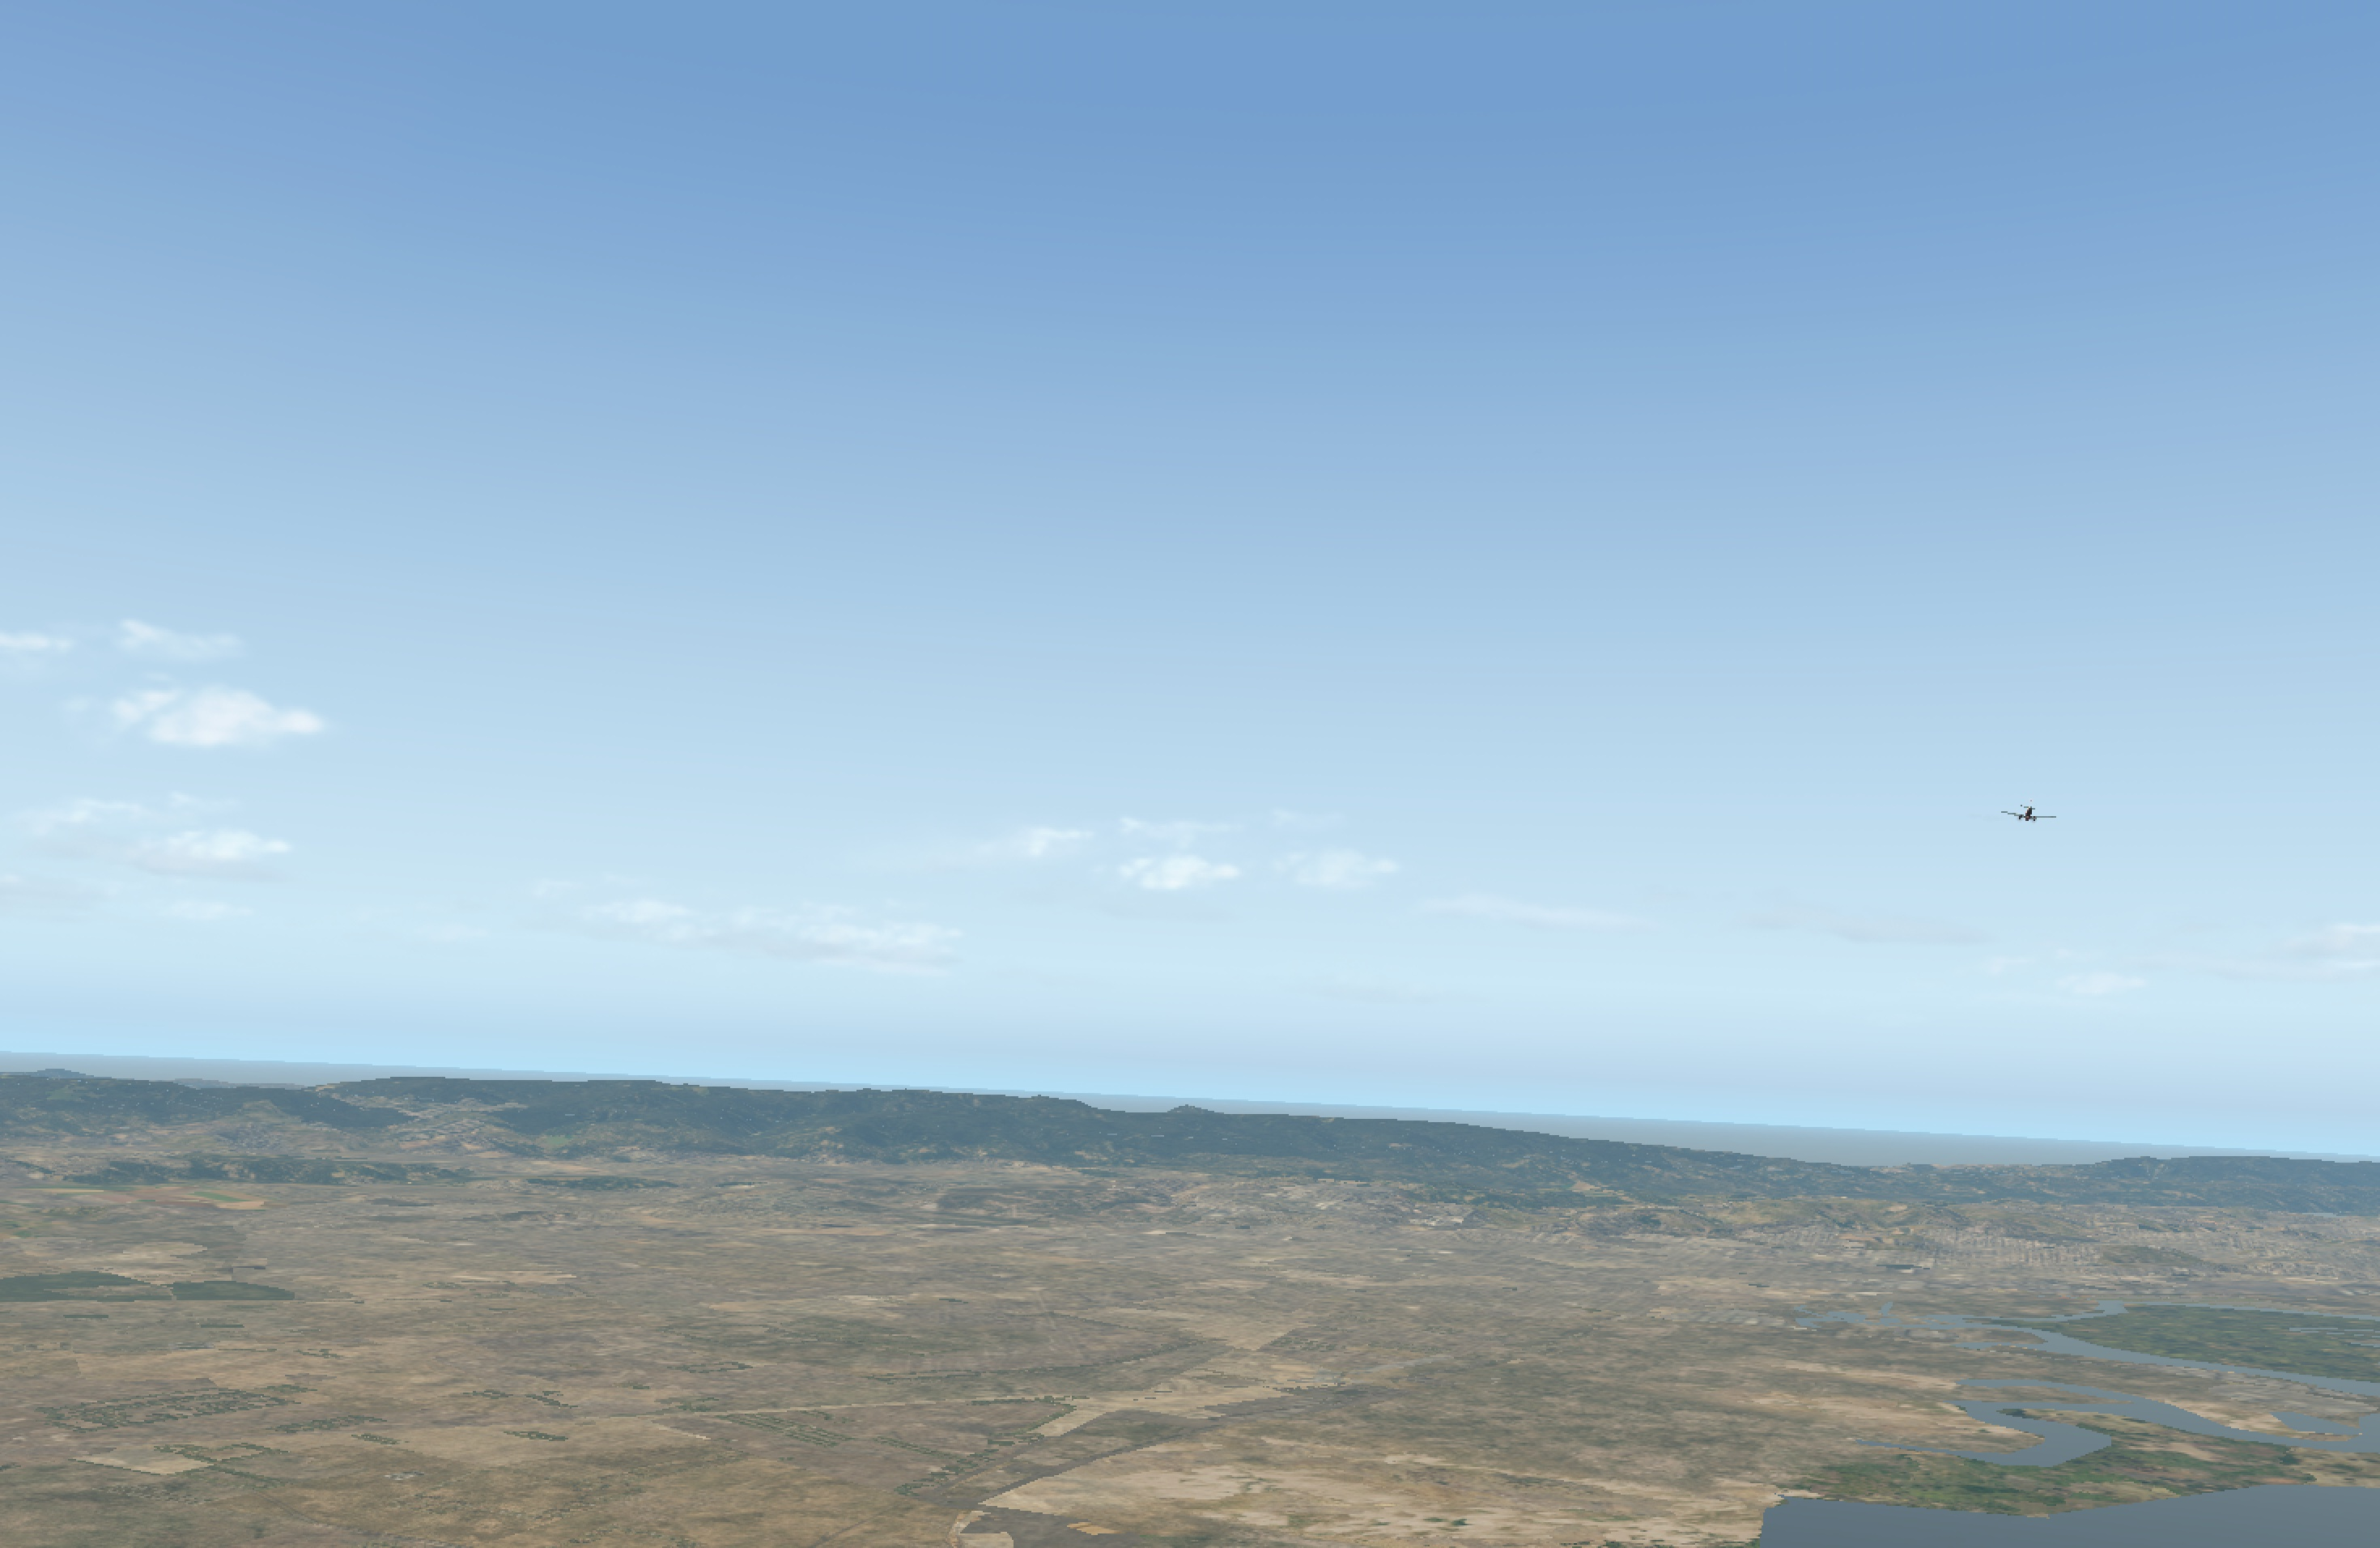aircraft: (2004, 809, 2052, 828)
